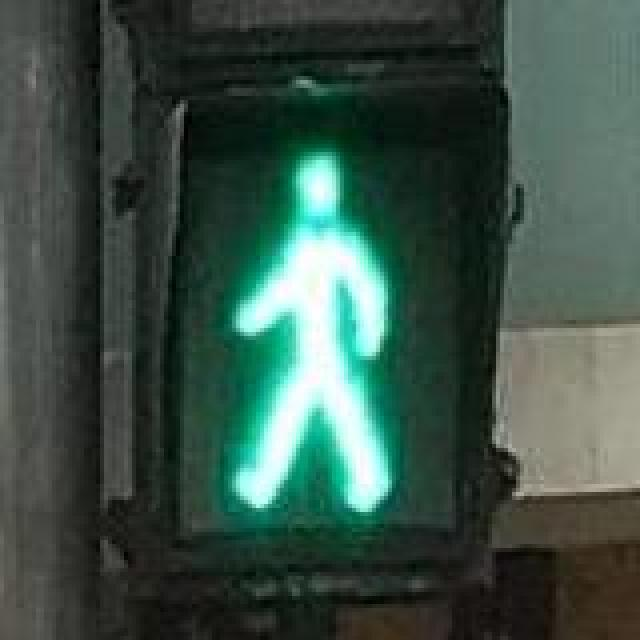geen-crossing: (172, 104, 460, 532)
